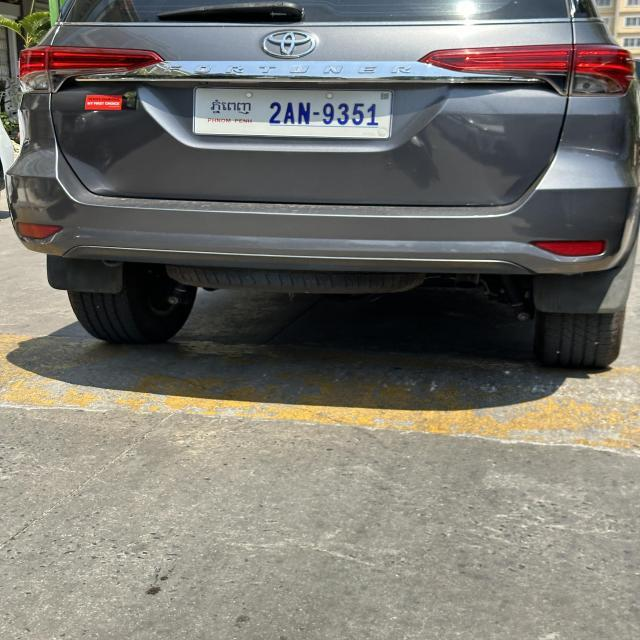Phnom_Penh: (208, 97, 256, 115)
